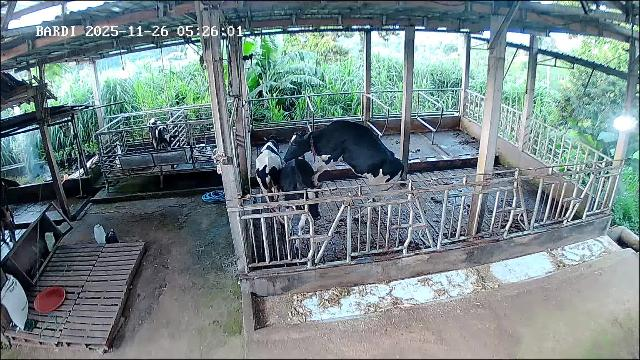mounting: (282, 119, 404, 218)
